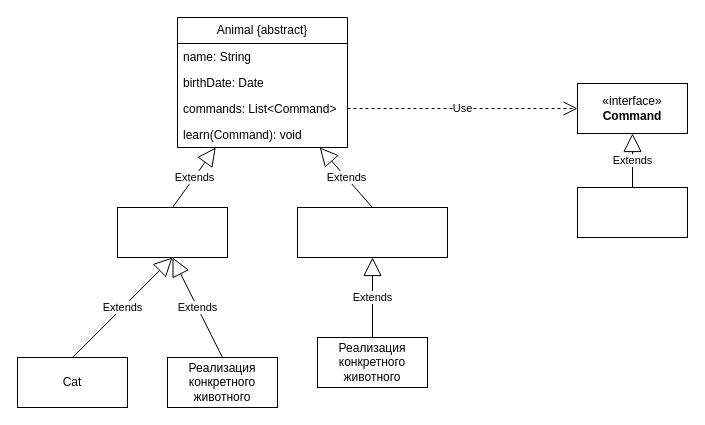
The diagram is 705 pixels wide and 425 high, and some of its shapes have lost their labels. Here are the shapes that lost their labels. From the top down, the centre of each, then its label:
(172,232): Pets {abstract}
(372,232): PackAnimals {abstract}
(632,212): Реализация конкретной комманды
